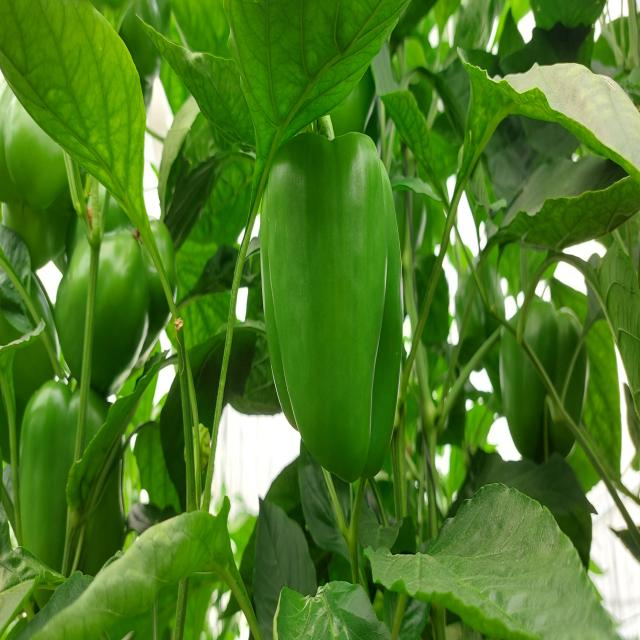Green--Not-ready-to-harvest: (268, 140, 406, 493), (16, 384, 127, 620), (64, 194, 184, 382), (0, 72, 87, 267), (496, 287, 588, 468)
